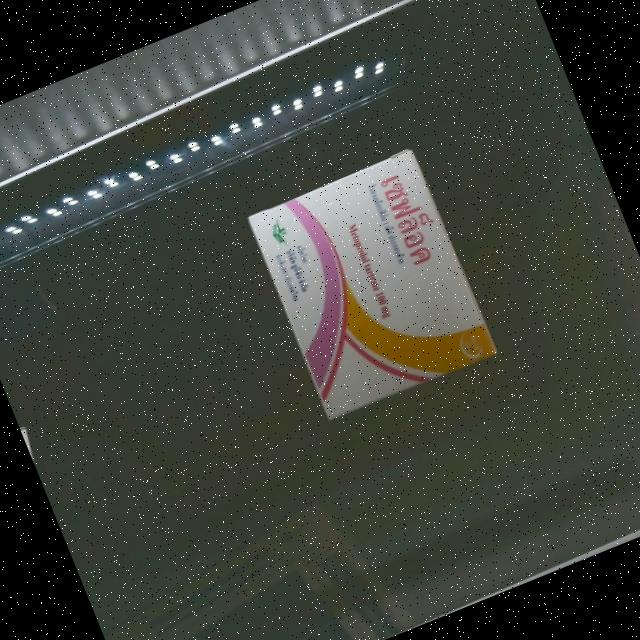sefloc: (244, 149, 496, 425)
